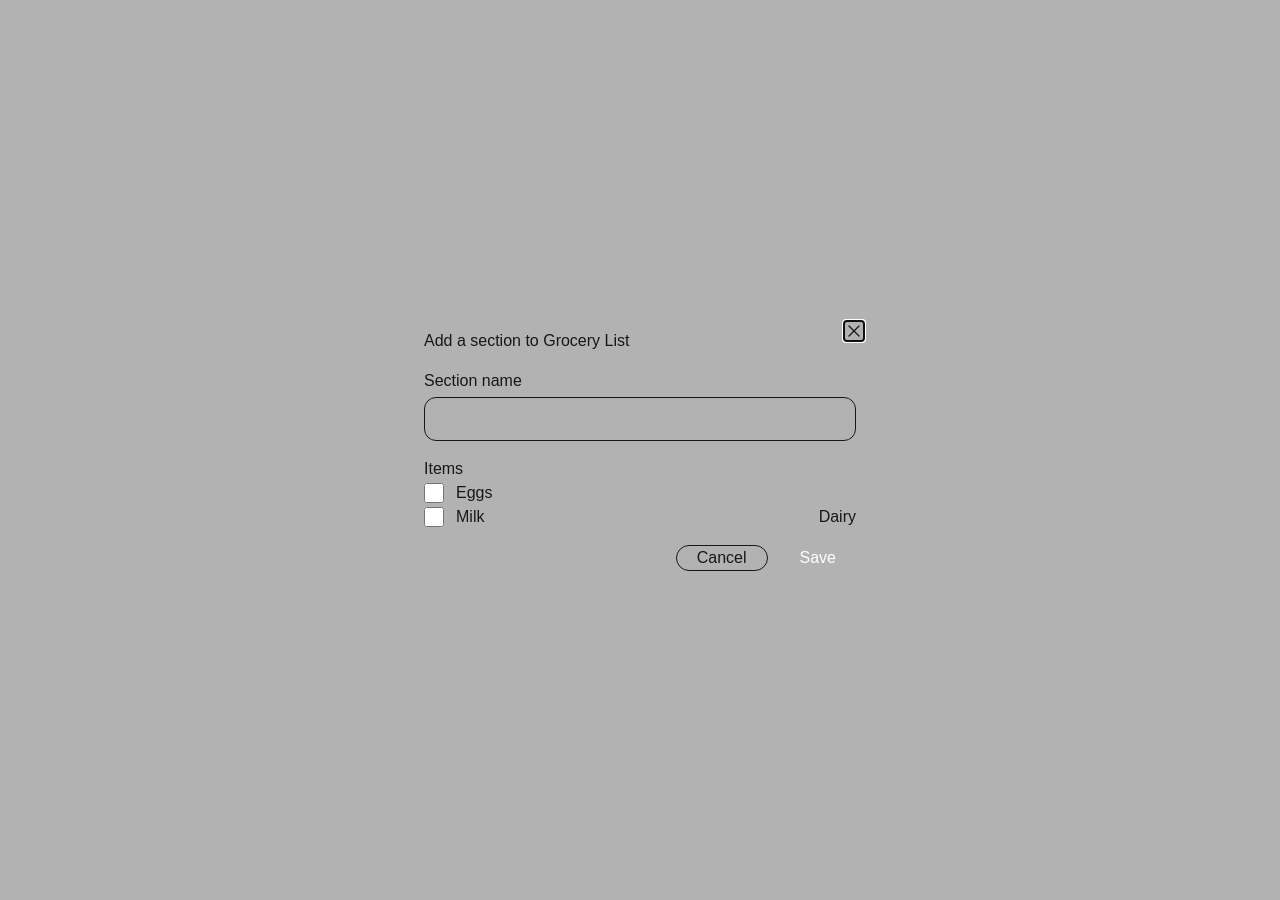
Scenario: SectionSheet › refuses an empty name and no items, without a write
Submit the form "Save", box 424,369 -> 856,571
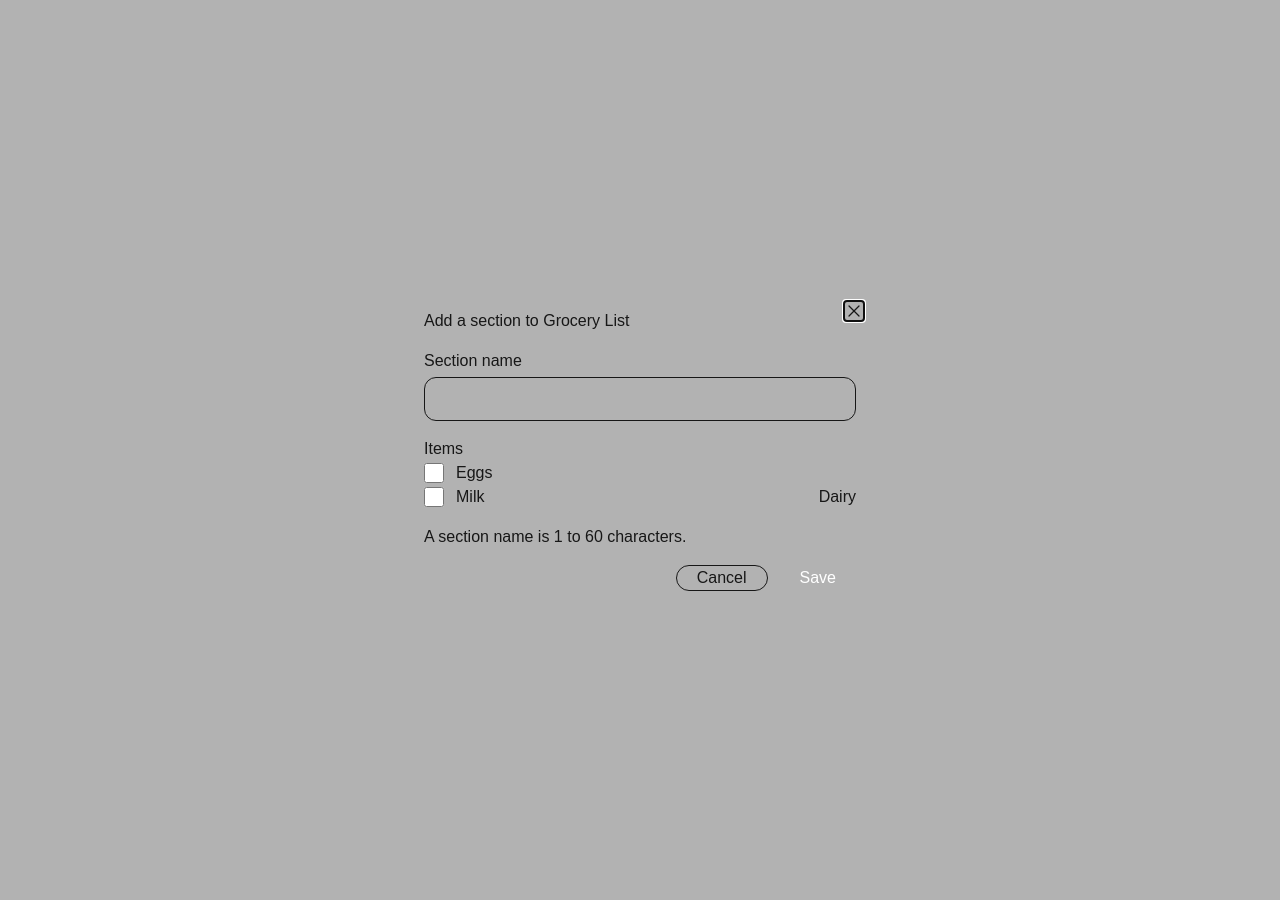
Expected: the text "A section name is 1 to 60 characters." is shown, 424,528 -> 686,545
Type "Bakery" into the field labelled "Section name" at x=640, y=399, box 424,377 -> 856,421
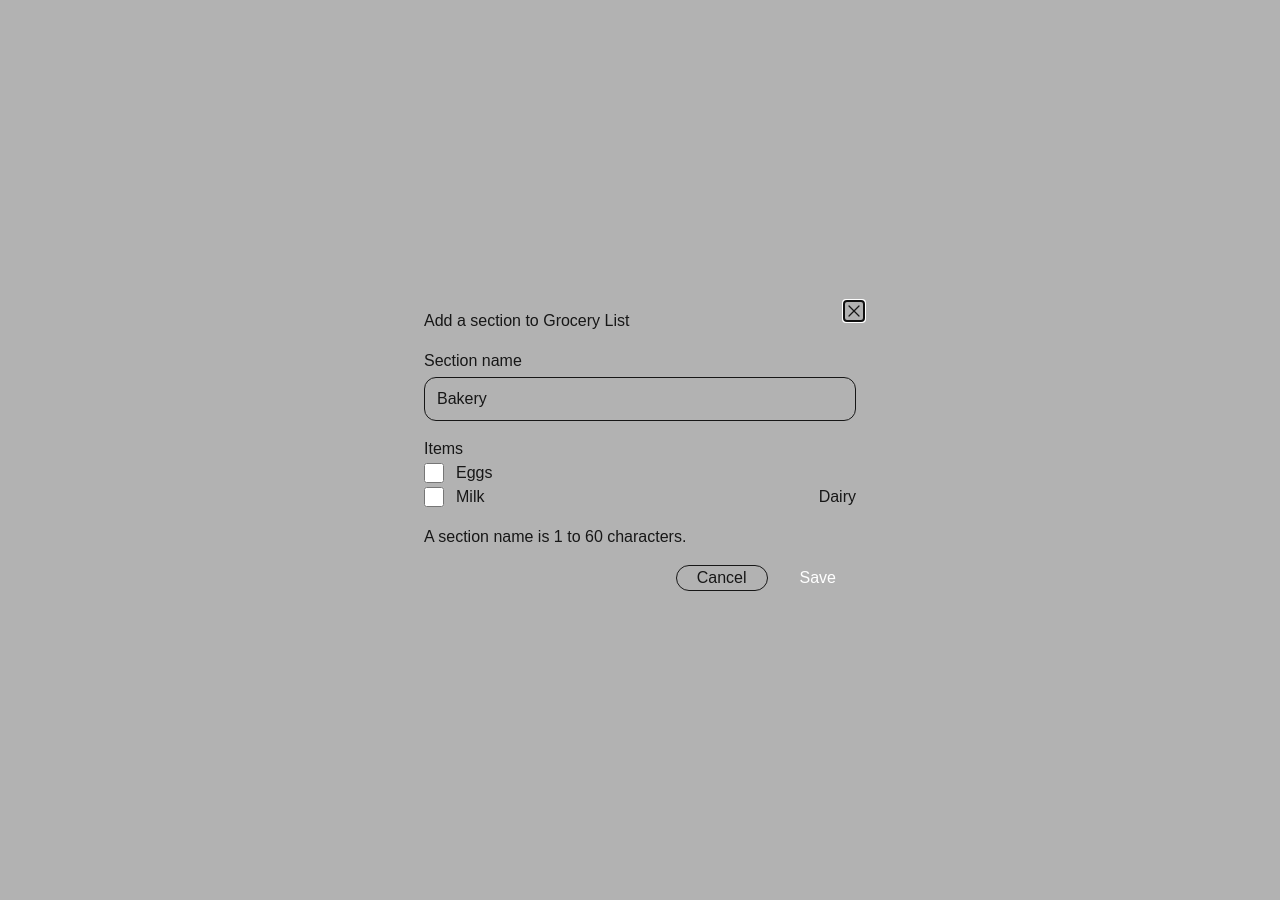
Submit the form named "Save", box 424,349 -> 856,591
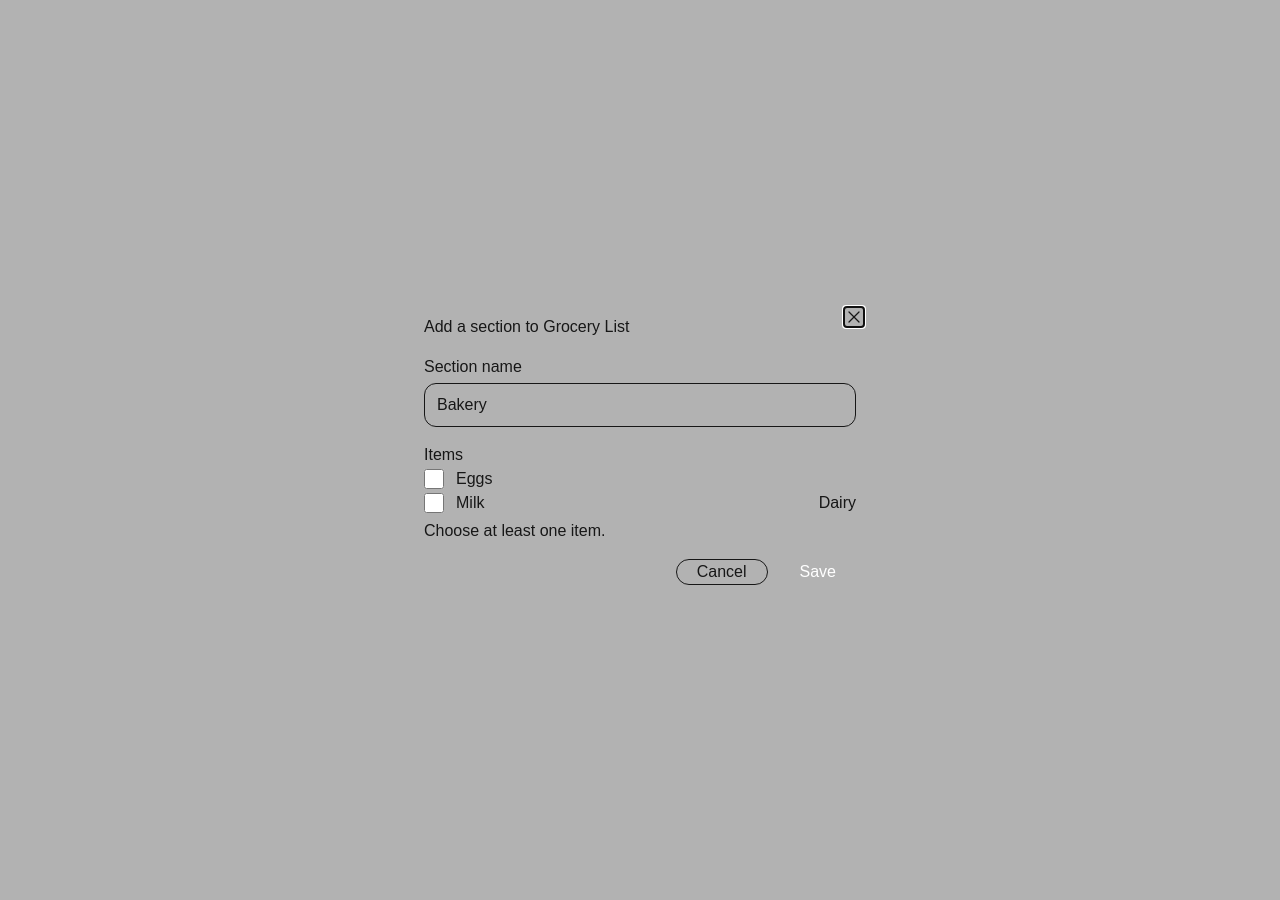
Expected: the text "Choose at least one item." is shown, 424,522 -> 605,539
